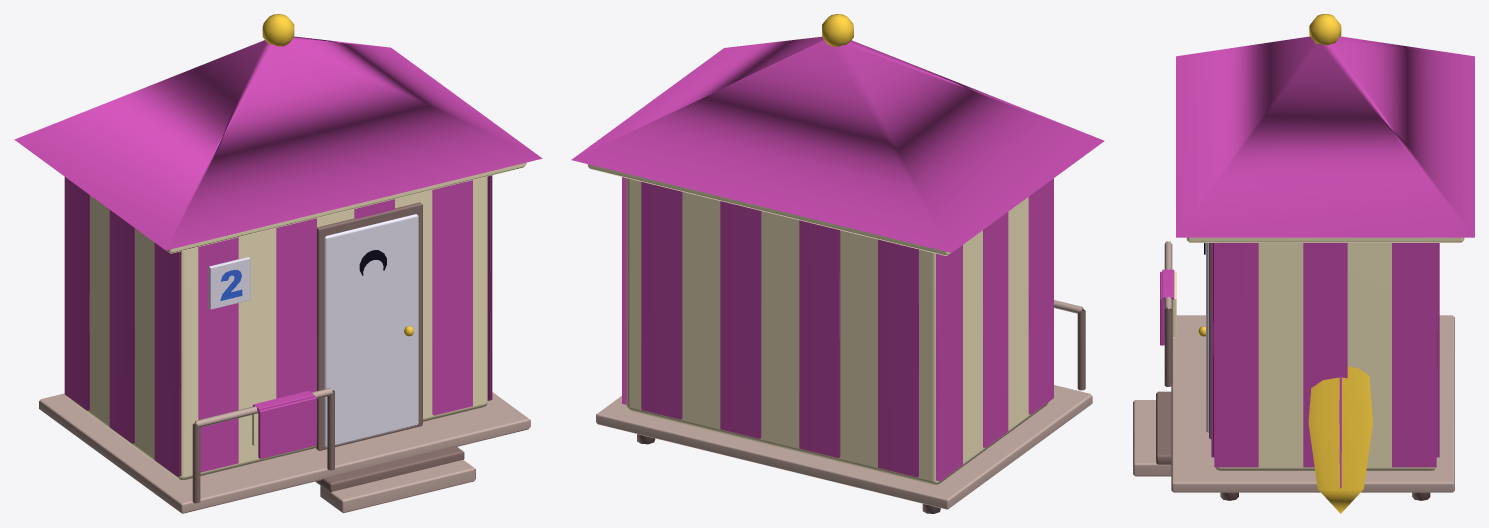
File: beach_hut_b.glb
The picture shows the model from 3 angles, left to right: view 1: azimuth 30°, elevation 25°; view 2: azimuth 150°, elevation 25°; view 3: azimuth 270°, elevation 25°; orthographic projection. The views are drawn at different scales.
Visible parts, largest first — view 1: Hut; view 2: Hut; view 3: Hut.
Part boxes in pixels (<box>): Hut: <box>14,14,542,513</box>; Hut: <box>571,14,1104,513</box>; Hut: <box>1133,14,1474,513</box>.
Bounding box in the file's own units: 2.8 × 2.98 × 2.23.
